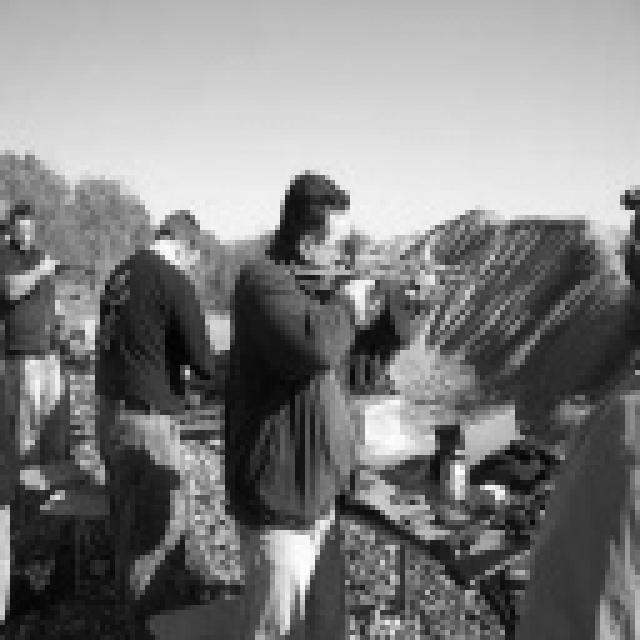Rifle: (260, 220, 498, 378)
